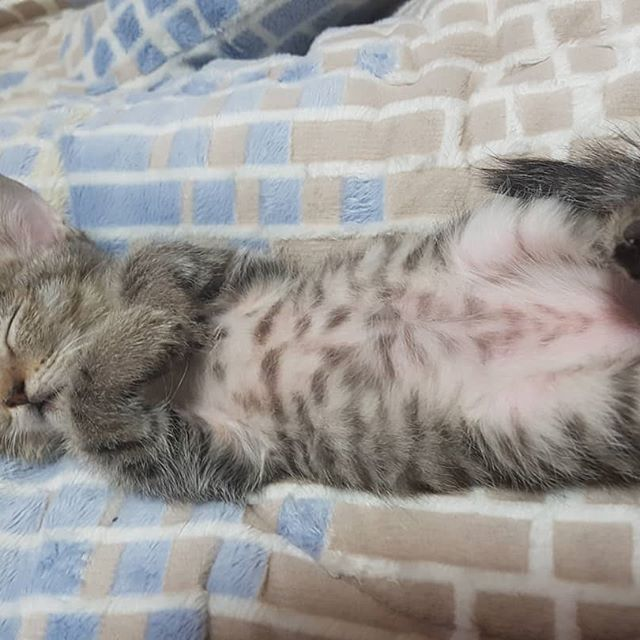cat: (2, 179, 120, 461)
